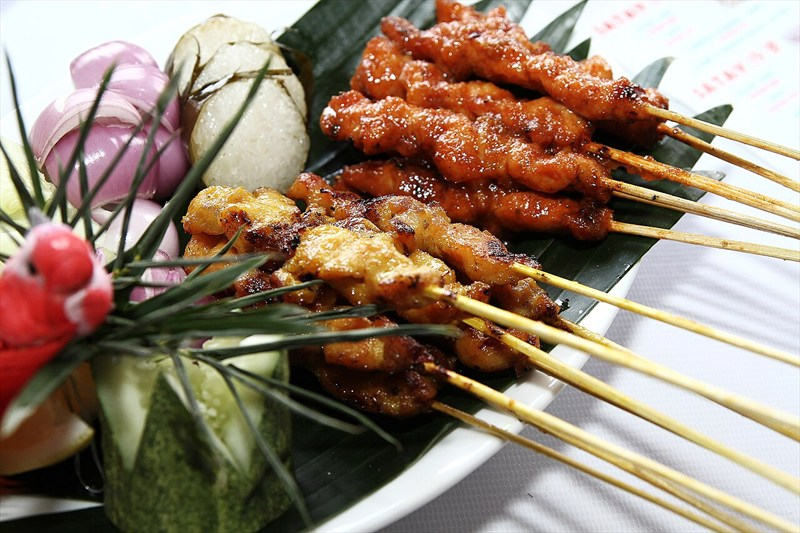Sate Ayam: (97, 57, 668, 427)
